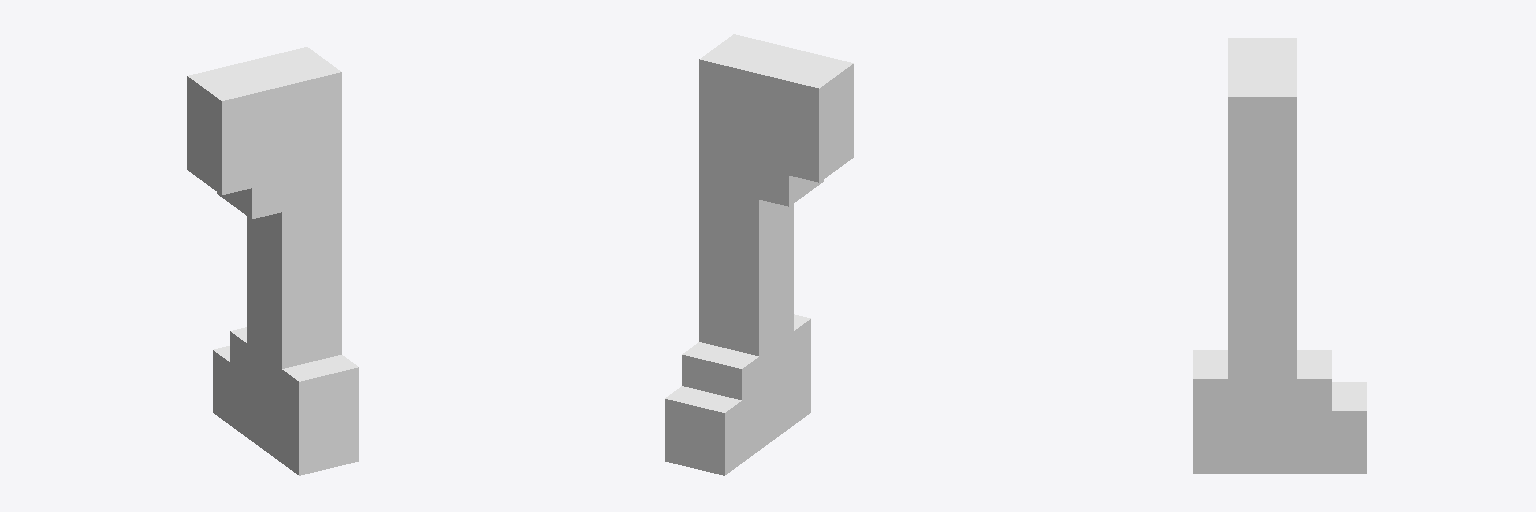
Rendered from r_leg.obj.
The picture shows the model from 3 angles: view 1: azimuth 30°, elevation 25°; view 2: azimuth 150°, elevation 25°; view 3: azimuth 270°, elevation 25°; orthographic projection.
Parts seen in each view (by area): view 1: object 1; view 2: object 1; view 3: object 1.
Boxes of the visible parts, x1,y1,x2,y2 form: object 1: [187, 47, 358, 475]; object 1: [665, 34, 853, 475]; object 1: [1193, 38, 1366, 473].
Size of the model in its own units: 0.4 by 1.2 by 0.5.